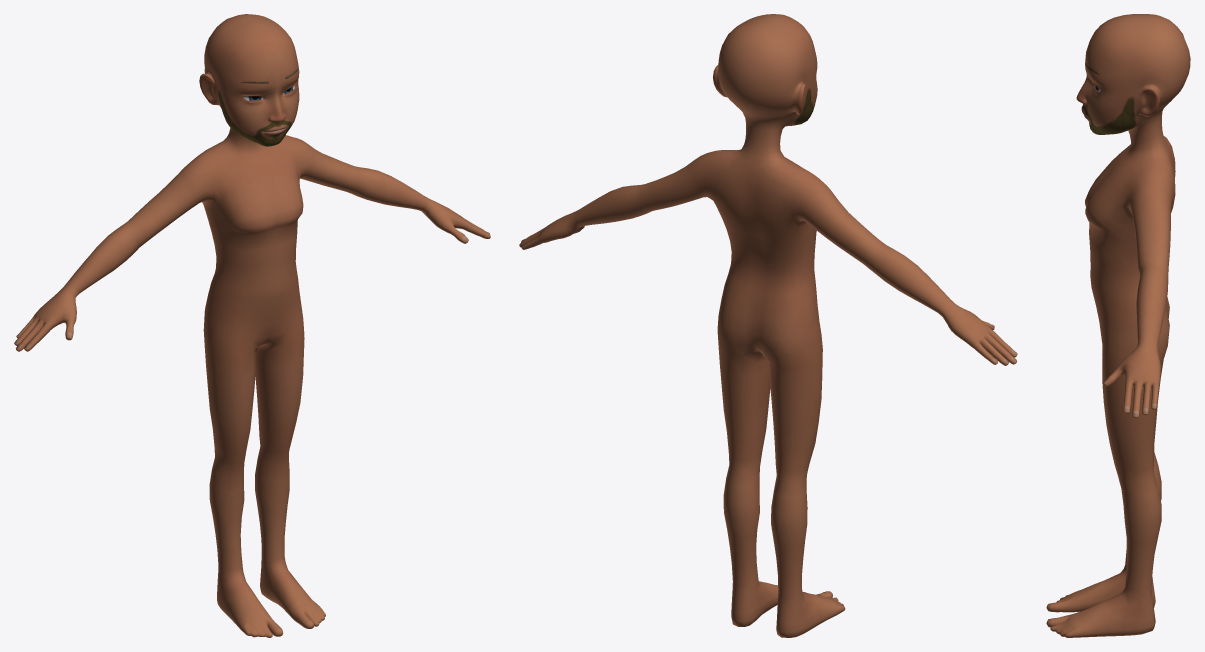
Rendered from frame_0065.glb.
3 views of the same model, side by side, from view 1: azimuth 30°, elevation 25°; view 2: azimuth 150°, elevation 25°; view 3: azimuth 270°, elevation 25° (orthographic). The views are drawn at different scales.
Parts seen in each view (by area): view 1: frame_0065_head_geo; view 2: frame_0065_head_geo; view 3: frame_0065_head_geo.
Part boxes in pixels (box(x1,y1,x2,y2)): frame_0065_head_geo: box(14, 14, 490, 637); frame_0065_head_geo: box(519, 14, 1017, 637); frame_0065_head_geo: box(1046, 14, 1190, 637).
Size of the model in its own units: 1.28 by 1.5 by 0.3253.
Materials: 3 (3 with a texture image).
